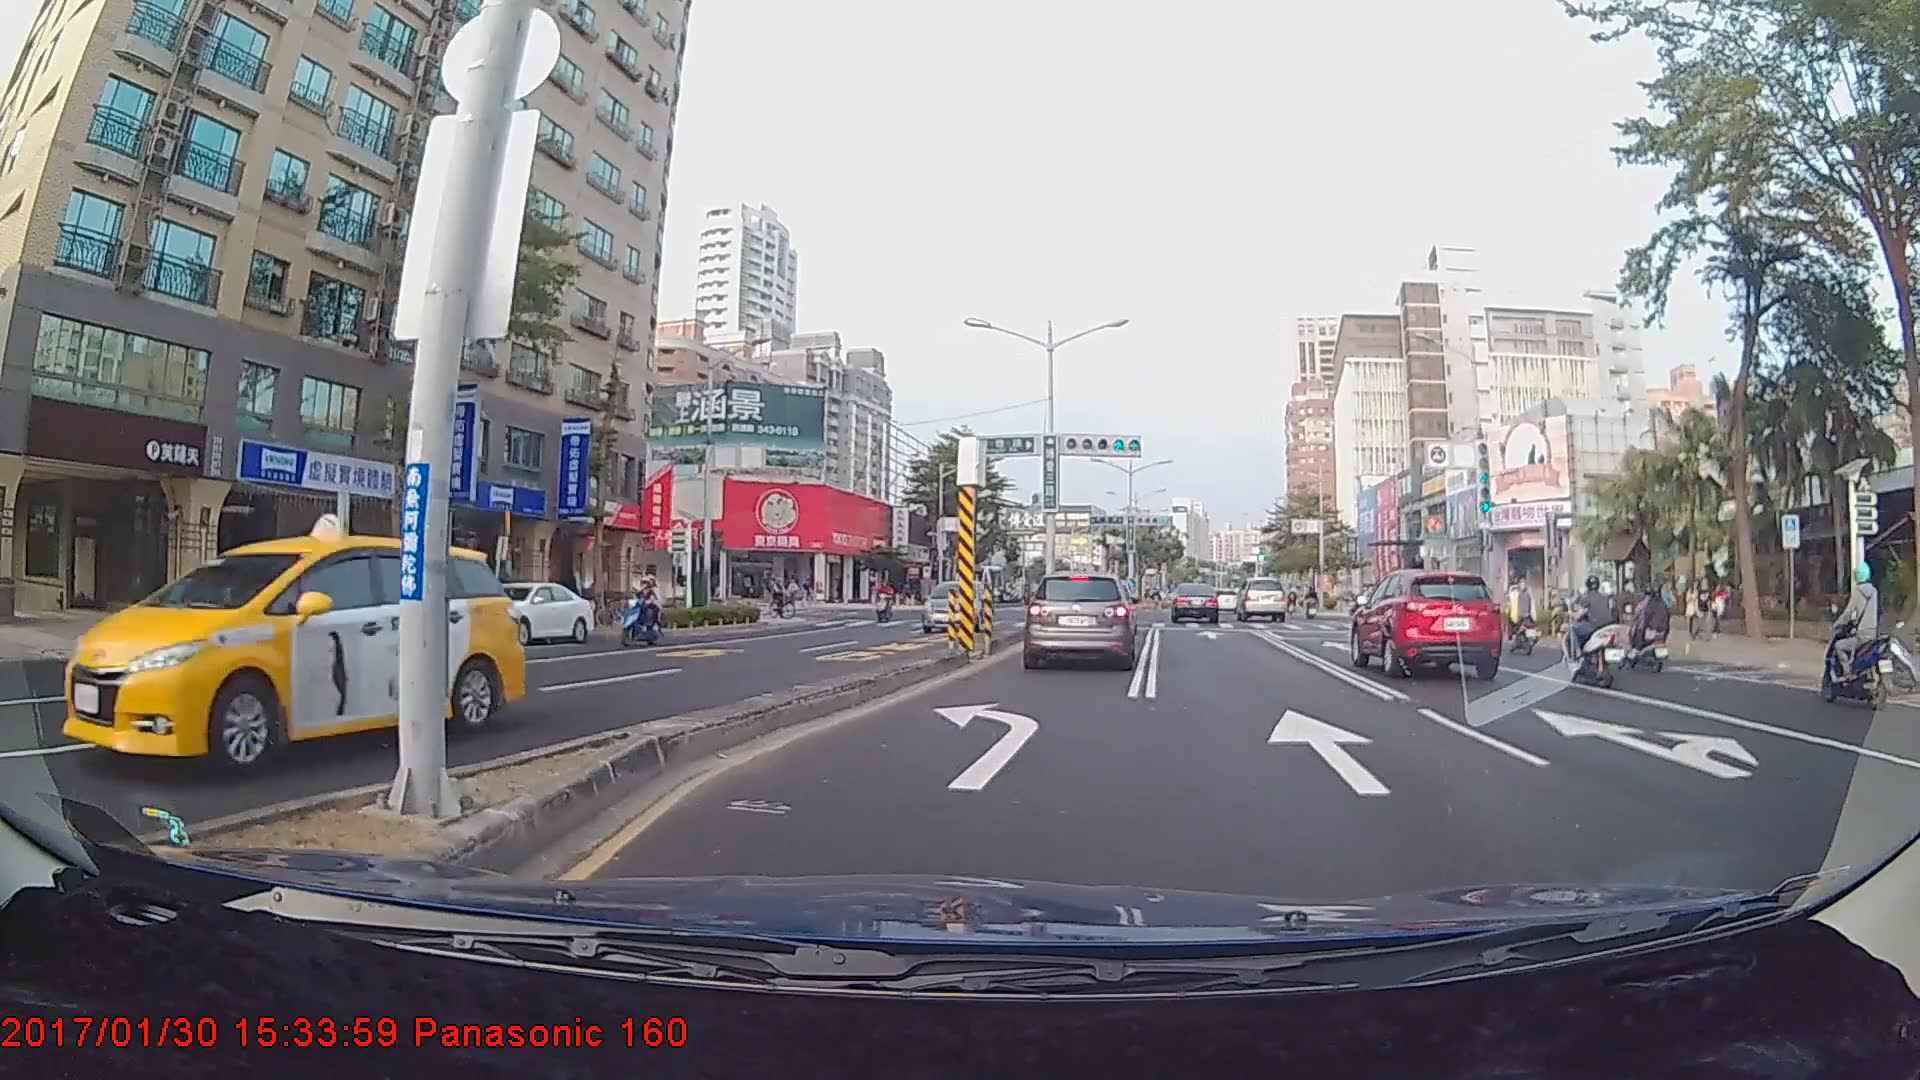pedestrian: (1693, 579, 1714, 643)
rider: (1807, 562, 1890, 717), (1555, 571, 1628, 685), (1616, 577, 1668, 674), (613, 575, 668, 652), (866, 577, 897, 627), (763, 576, 793, 624)
vehicle: (61, 533, 521, 776), (1350, 565, 1505, 678), (1024, 569, 1135, 670), (446, 580, 595, 647), (917, 580, 990, 632), (1234, 578, 1287, 622), (1170, 582, 1219, 623)
